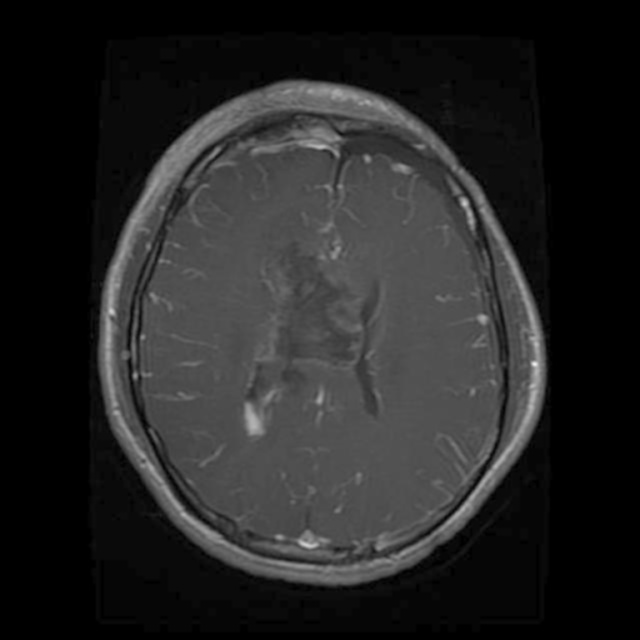pituitary tumor: (274, 258, 362, 362)
